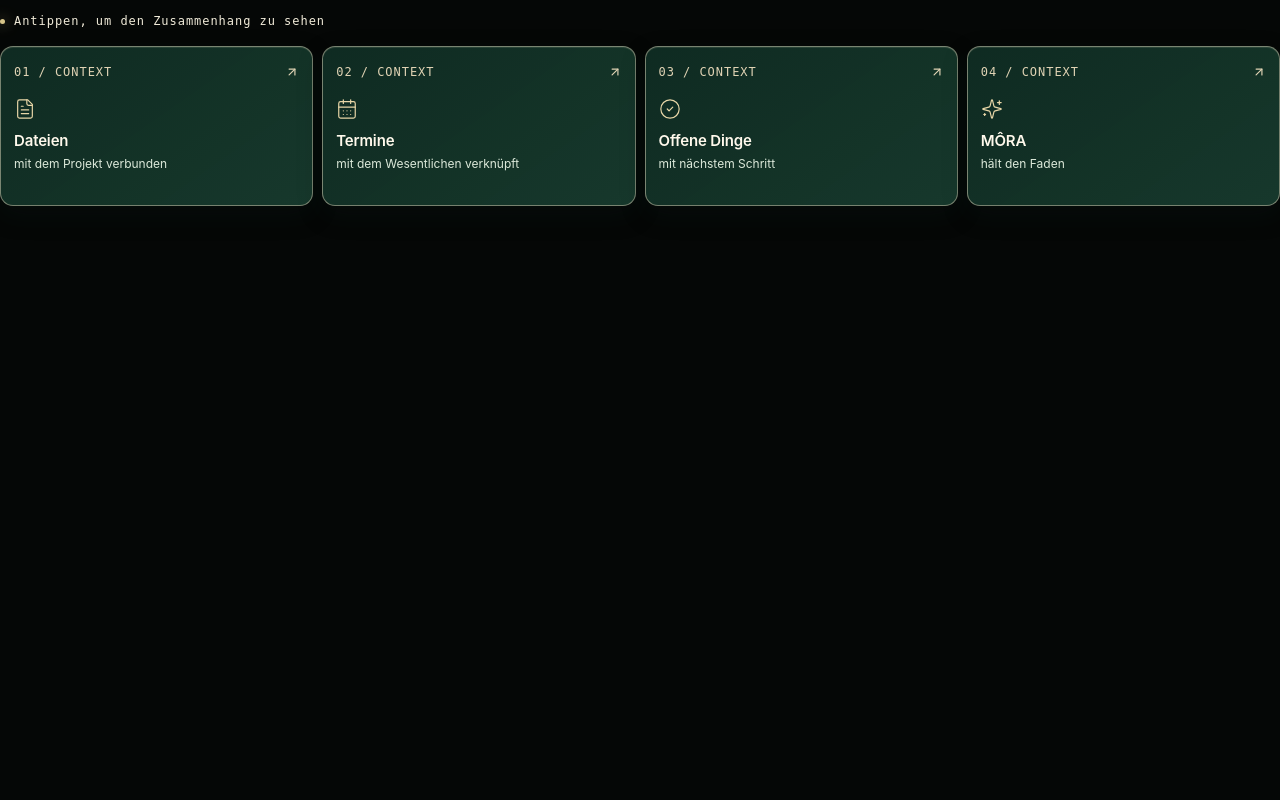
Test: ContextSignals › keeps context explanations honest about source connections and approvals
The width and height of the screenshot is (1280, 800).
Click the button "04 / CONTEXT MÔRA hält den Faden" at (1038, 72), box [967, 46, 1279, 206]
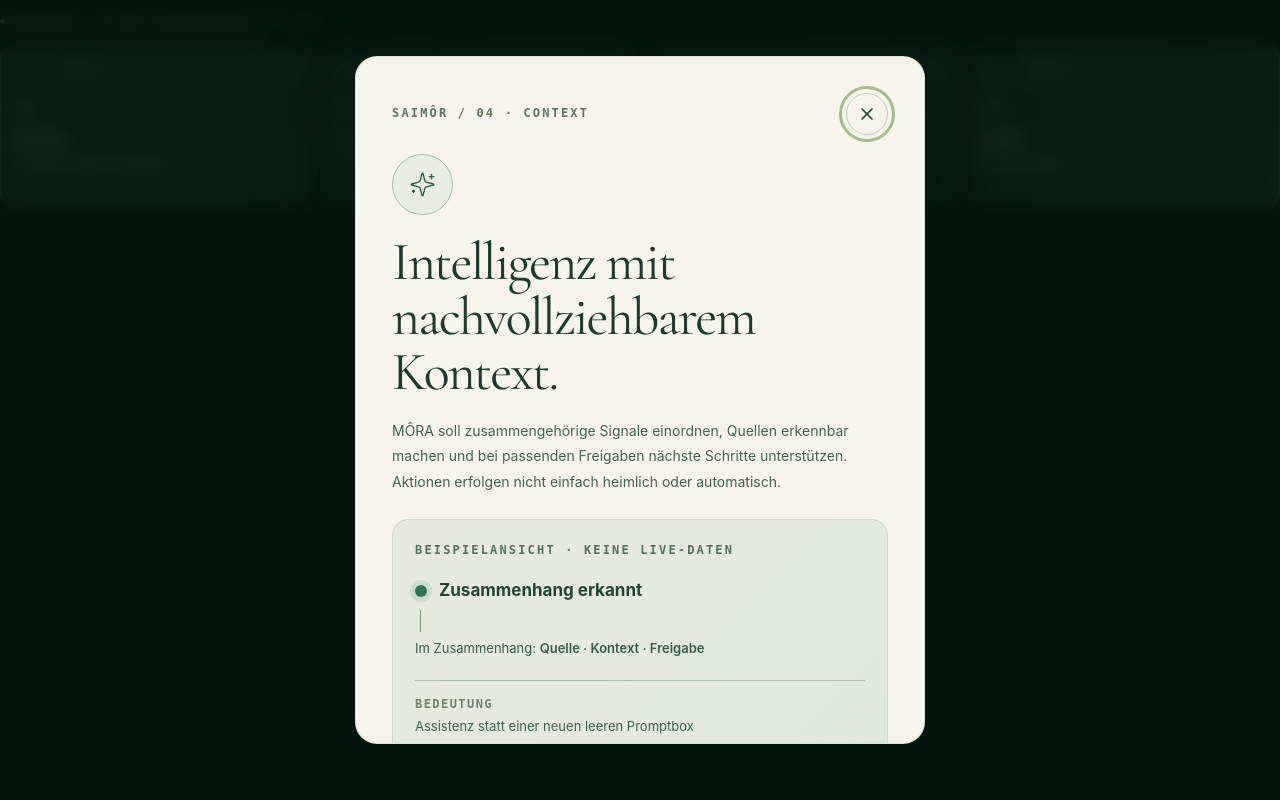
Check: the text "Aktionen erfolgen nicht einfach heimlich" is shown, box [392, 422, 848, 490]
Check: the text "Quelle · Kontext · Freigabe" is shown, box [540, 640, 705, 656]
